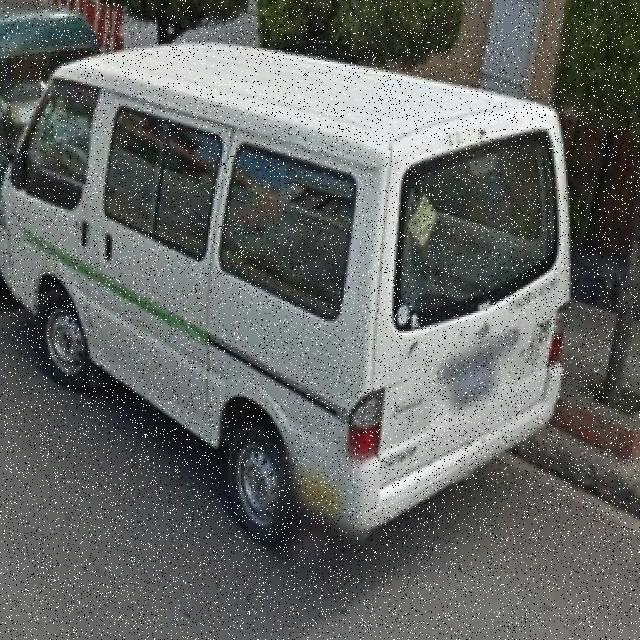cars: (2, 53, 578, 560)
